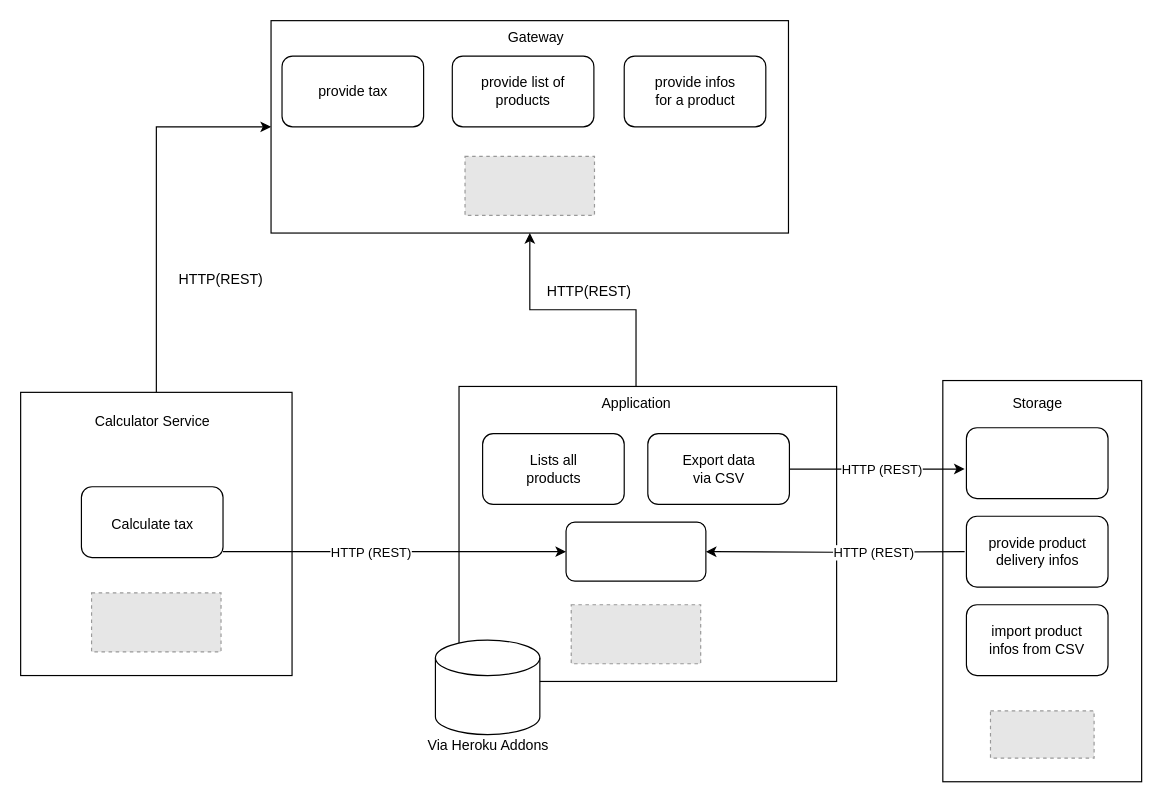
Image size: 1162x802. Some labels were removed from this diagram. Grey dashed boxes stand in for pictures. The shapes that lost their labels are listed below. From the top down, each one's box as (x1, y1, x2, y2) in pixels, then its label:
(965, 427, 1108, 499): import all data via CSV
(565, 521, 706, 581): Provide complete product info
(434, 639, 540, 735): DB (PostgreSQL)
